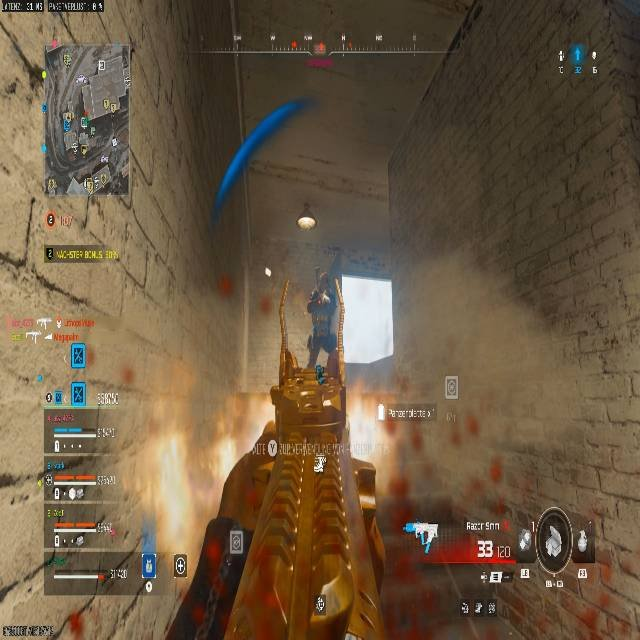player: (305, 269, 342, 384)
